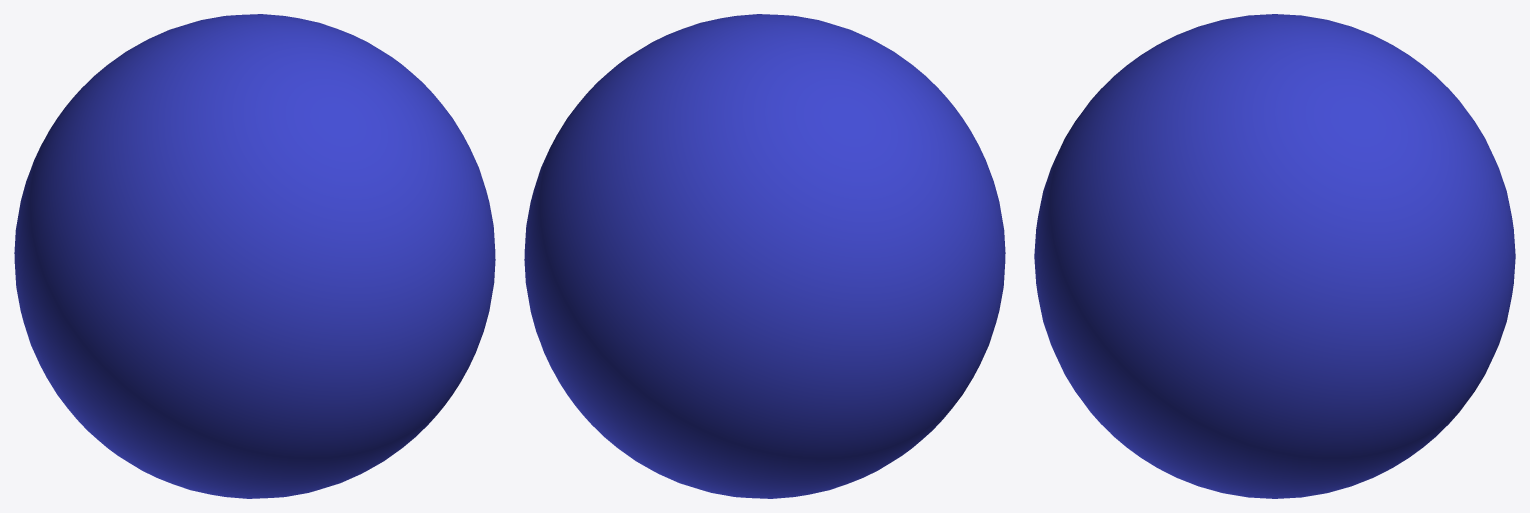
3 renders of one model, left to right at view 1: azimuth 30°, elevation 25°; view 2: azimuth 150°, elevation 25°; view 3: azimuth 270°, elevation 25°, orthographic.
Visible parts, largest first — view 1: root; view 2: root; view 3: root.
Boxes of the visible parts, x1,y1,x2,y2 form: root: (14, 14, 495, 498); root: (524, 14, 1005, 498); root: (1034, 14, 1515, 498).
Bounding box in the file's own units: 0.2965 × 0.2993 × 0.2965.
